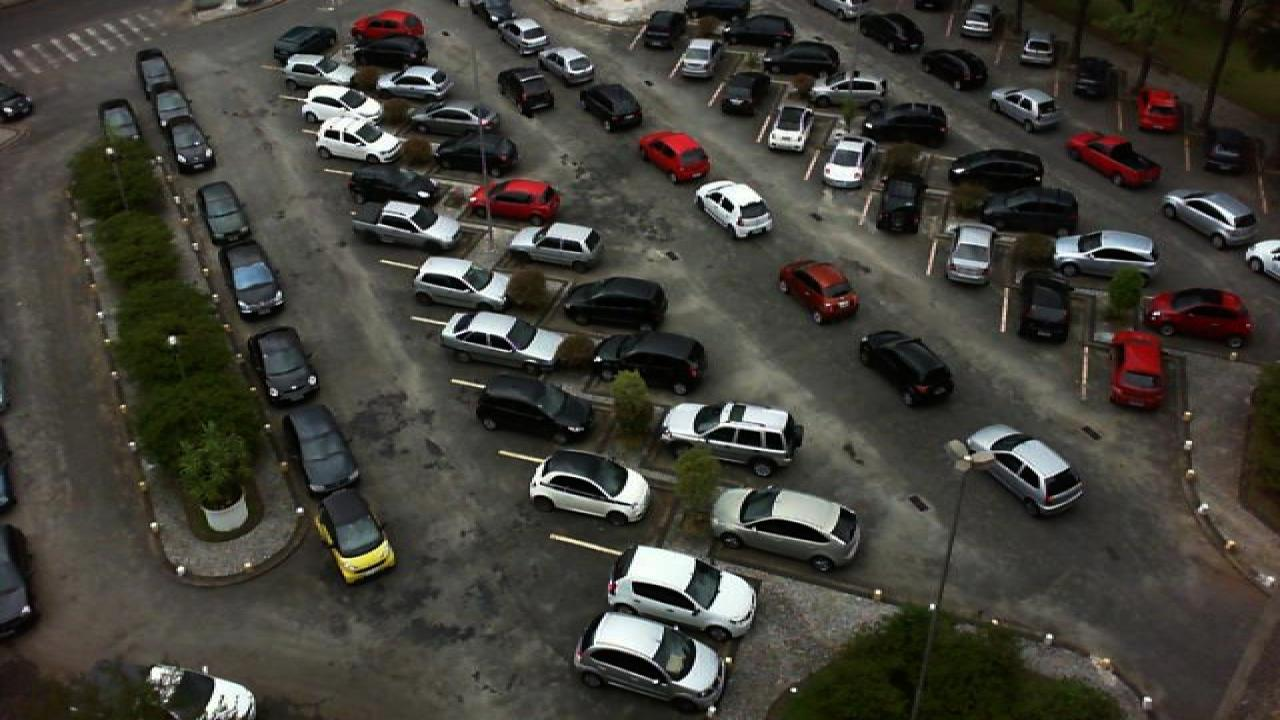Car: (570, 611, 732, 711), (606, 544, 760, 644), (706, 484, 864, 574), (960, 423, 1088, 516), (660, 402, 804, 477), (528, 448, 654, 526), (474, 371, 594, 447), (438, 308, 568, 372), (592, 331, 710, 396), (136, 660, 262, 720), (858, 327, 954, 405), (318, 489, 396, 585), (1136, 286, 1252, 348), (284, 403, 360, 497), (1158, 187, 1260, 248), (348, 199, 462, 252), (1050, 229, 1162, 282), (246, 325, 322, 403), (410, 255, 508, 315), (564, 276, 668, 330), (1064, 130, 1162, 185), (778, 258, 858, 325), (978, 184, 1082, 234), (1110, 327, 1170, 412), (694, 178, 776, 240), (508, 220, 604, 270), (470, 176, 562, 228), (224, 242, 286, 318), (312, 115, 406, 164), (346, 162, 438, 209), (950, 146, 1046, 189), (1016, 268, 1070, 344), (636, 130, 712, 182), (298, 83, 384, 127), (862, 101, 952, 143), (986, 86, 1064, 132), (196, 182, 252, 246), (436, 132, 520, 174), (96, 98, 146, 166), (944, 222, 998, 284), (818, 136, 878, 191), (580, 82, 646, 132), (858, 9, 928, 54), (804, 71, 888, 108), (918, 47, 990, 90), (164, 117, 218, 173), (762, 38, 846, 74), (874, 178, 926, 236), (530, 45, 596, 89), (406, 104, 486, 140), (718, 11, 798, 47), (764, 96, 814, 152), (498, 69, 554, 117), (1204, 126, 1260, 174), (386, 63, 454, 102), (272, 24, 338, 62), (282, 53, 348, 90), (720, 70, 772, 116), (1136, 84, 1184, 132), (672, 36, 722, 81), (354, 36, 428, 66), (354, 9, 426, 39), (150, 84, 194, 132), (504, 27, 560, 64), (642, 8, 686, 52), (486, 8, 536, 45), (1074, 55, 1116, 99), (1018, 27, 1060, 67), (958, 0, 1000, 40), (134, 48, 172, 92), (684, 0, 752, 19)
